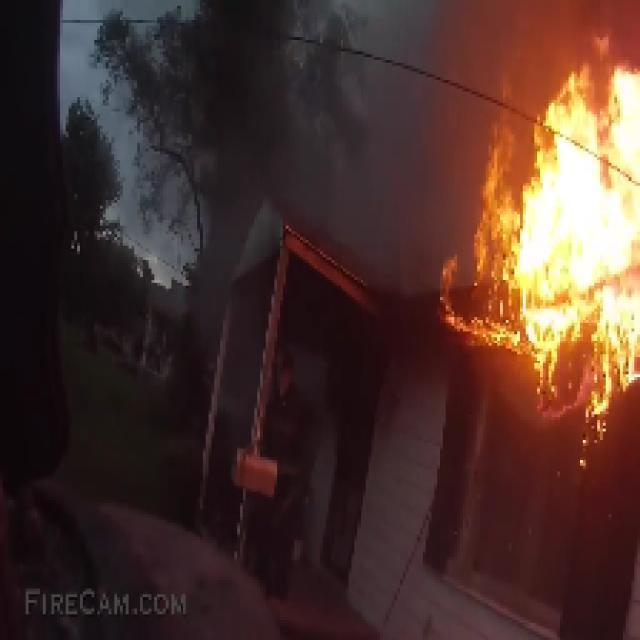Fire: (440, 31, 640, 460)
Smoke: (140, 2, 486, 388)
